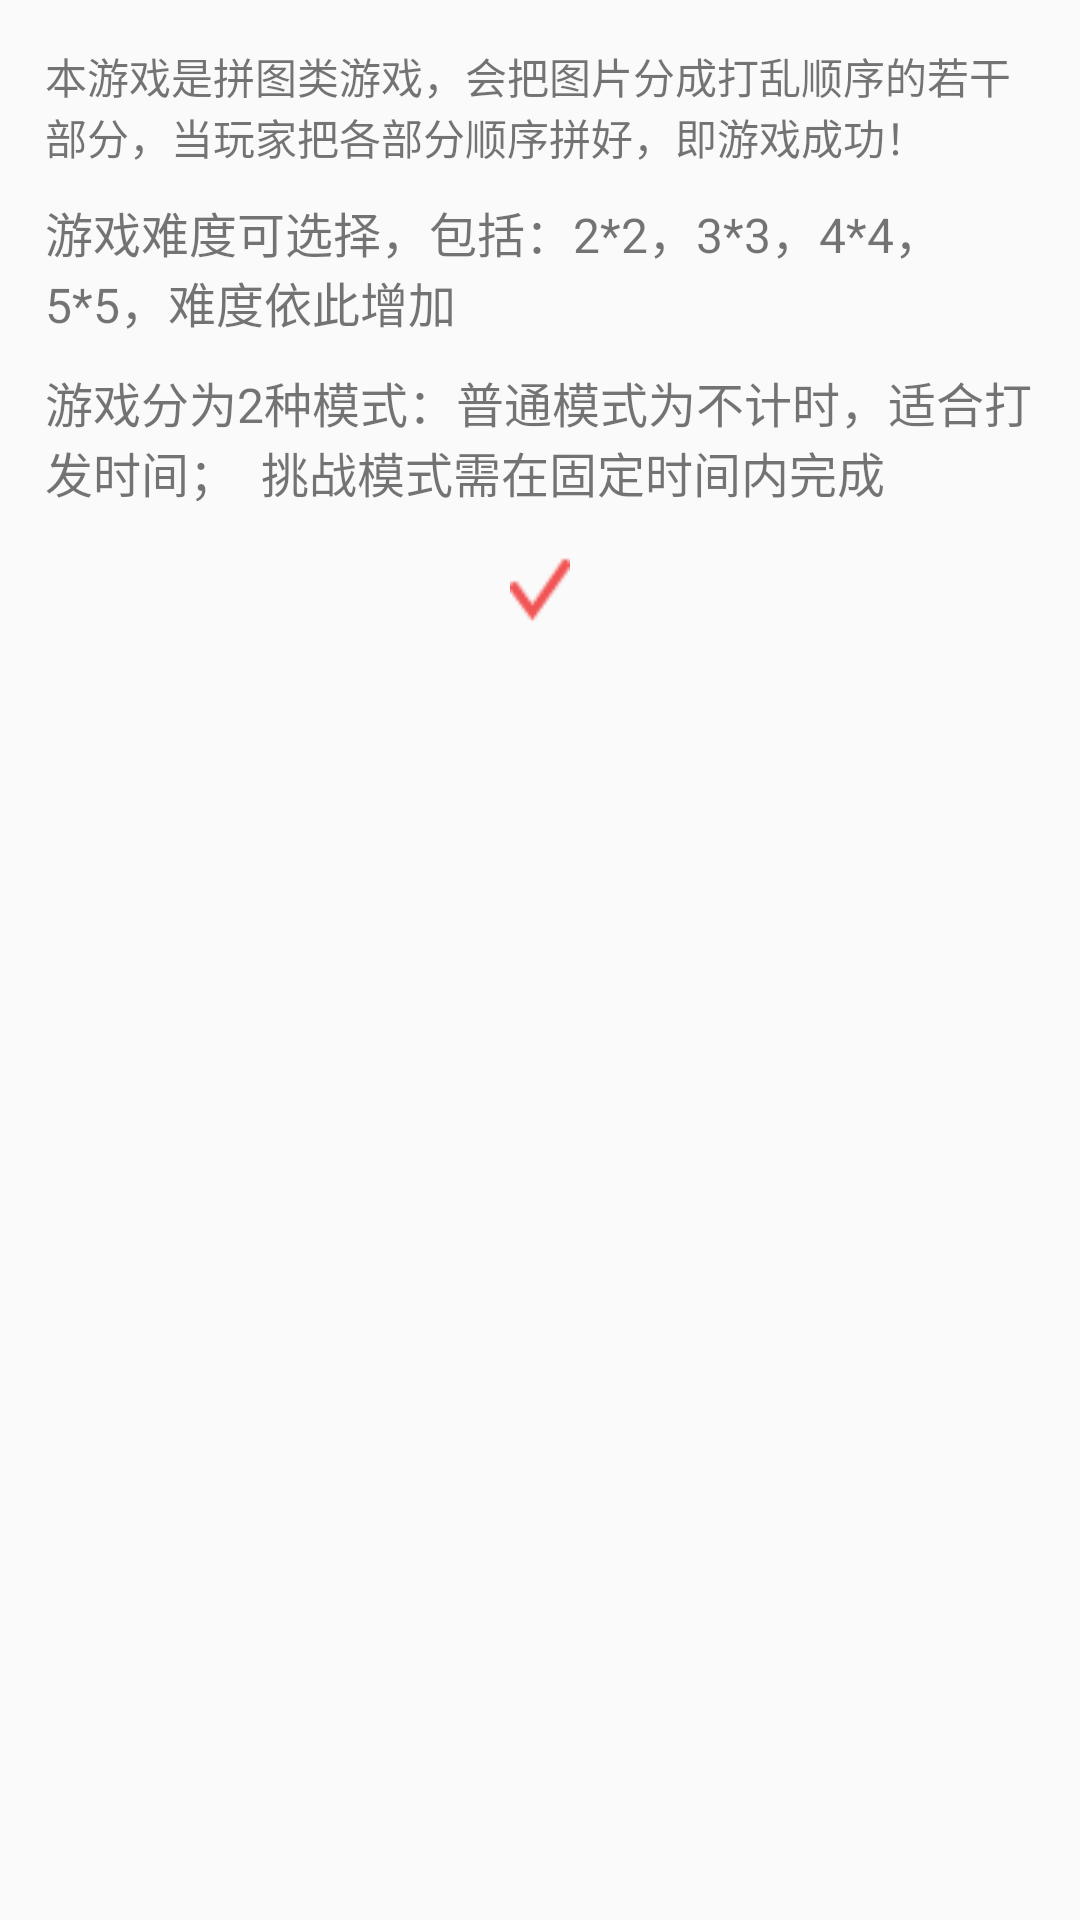

Icon bounding boxes for this 1080w x 1920h phone screenshot, format (x1, y1, x2, y2):
tick: (510, 558, 570, 621)
